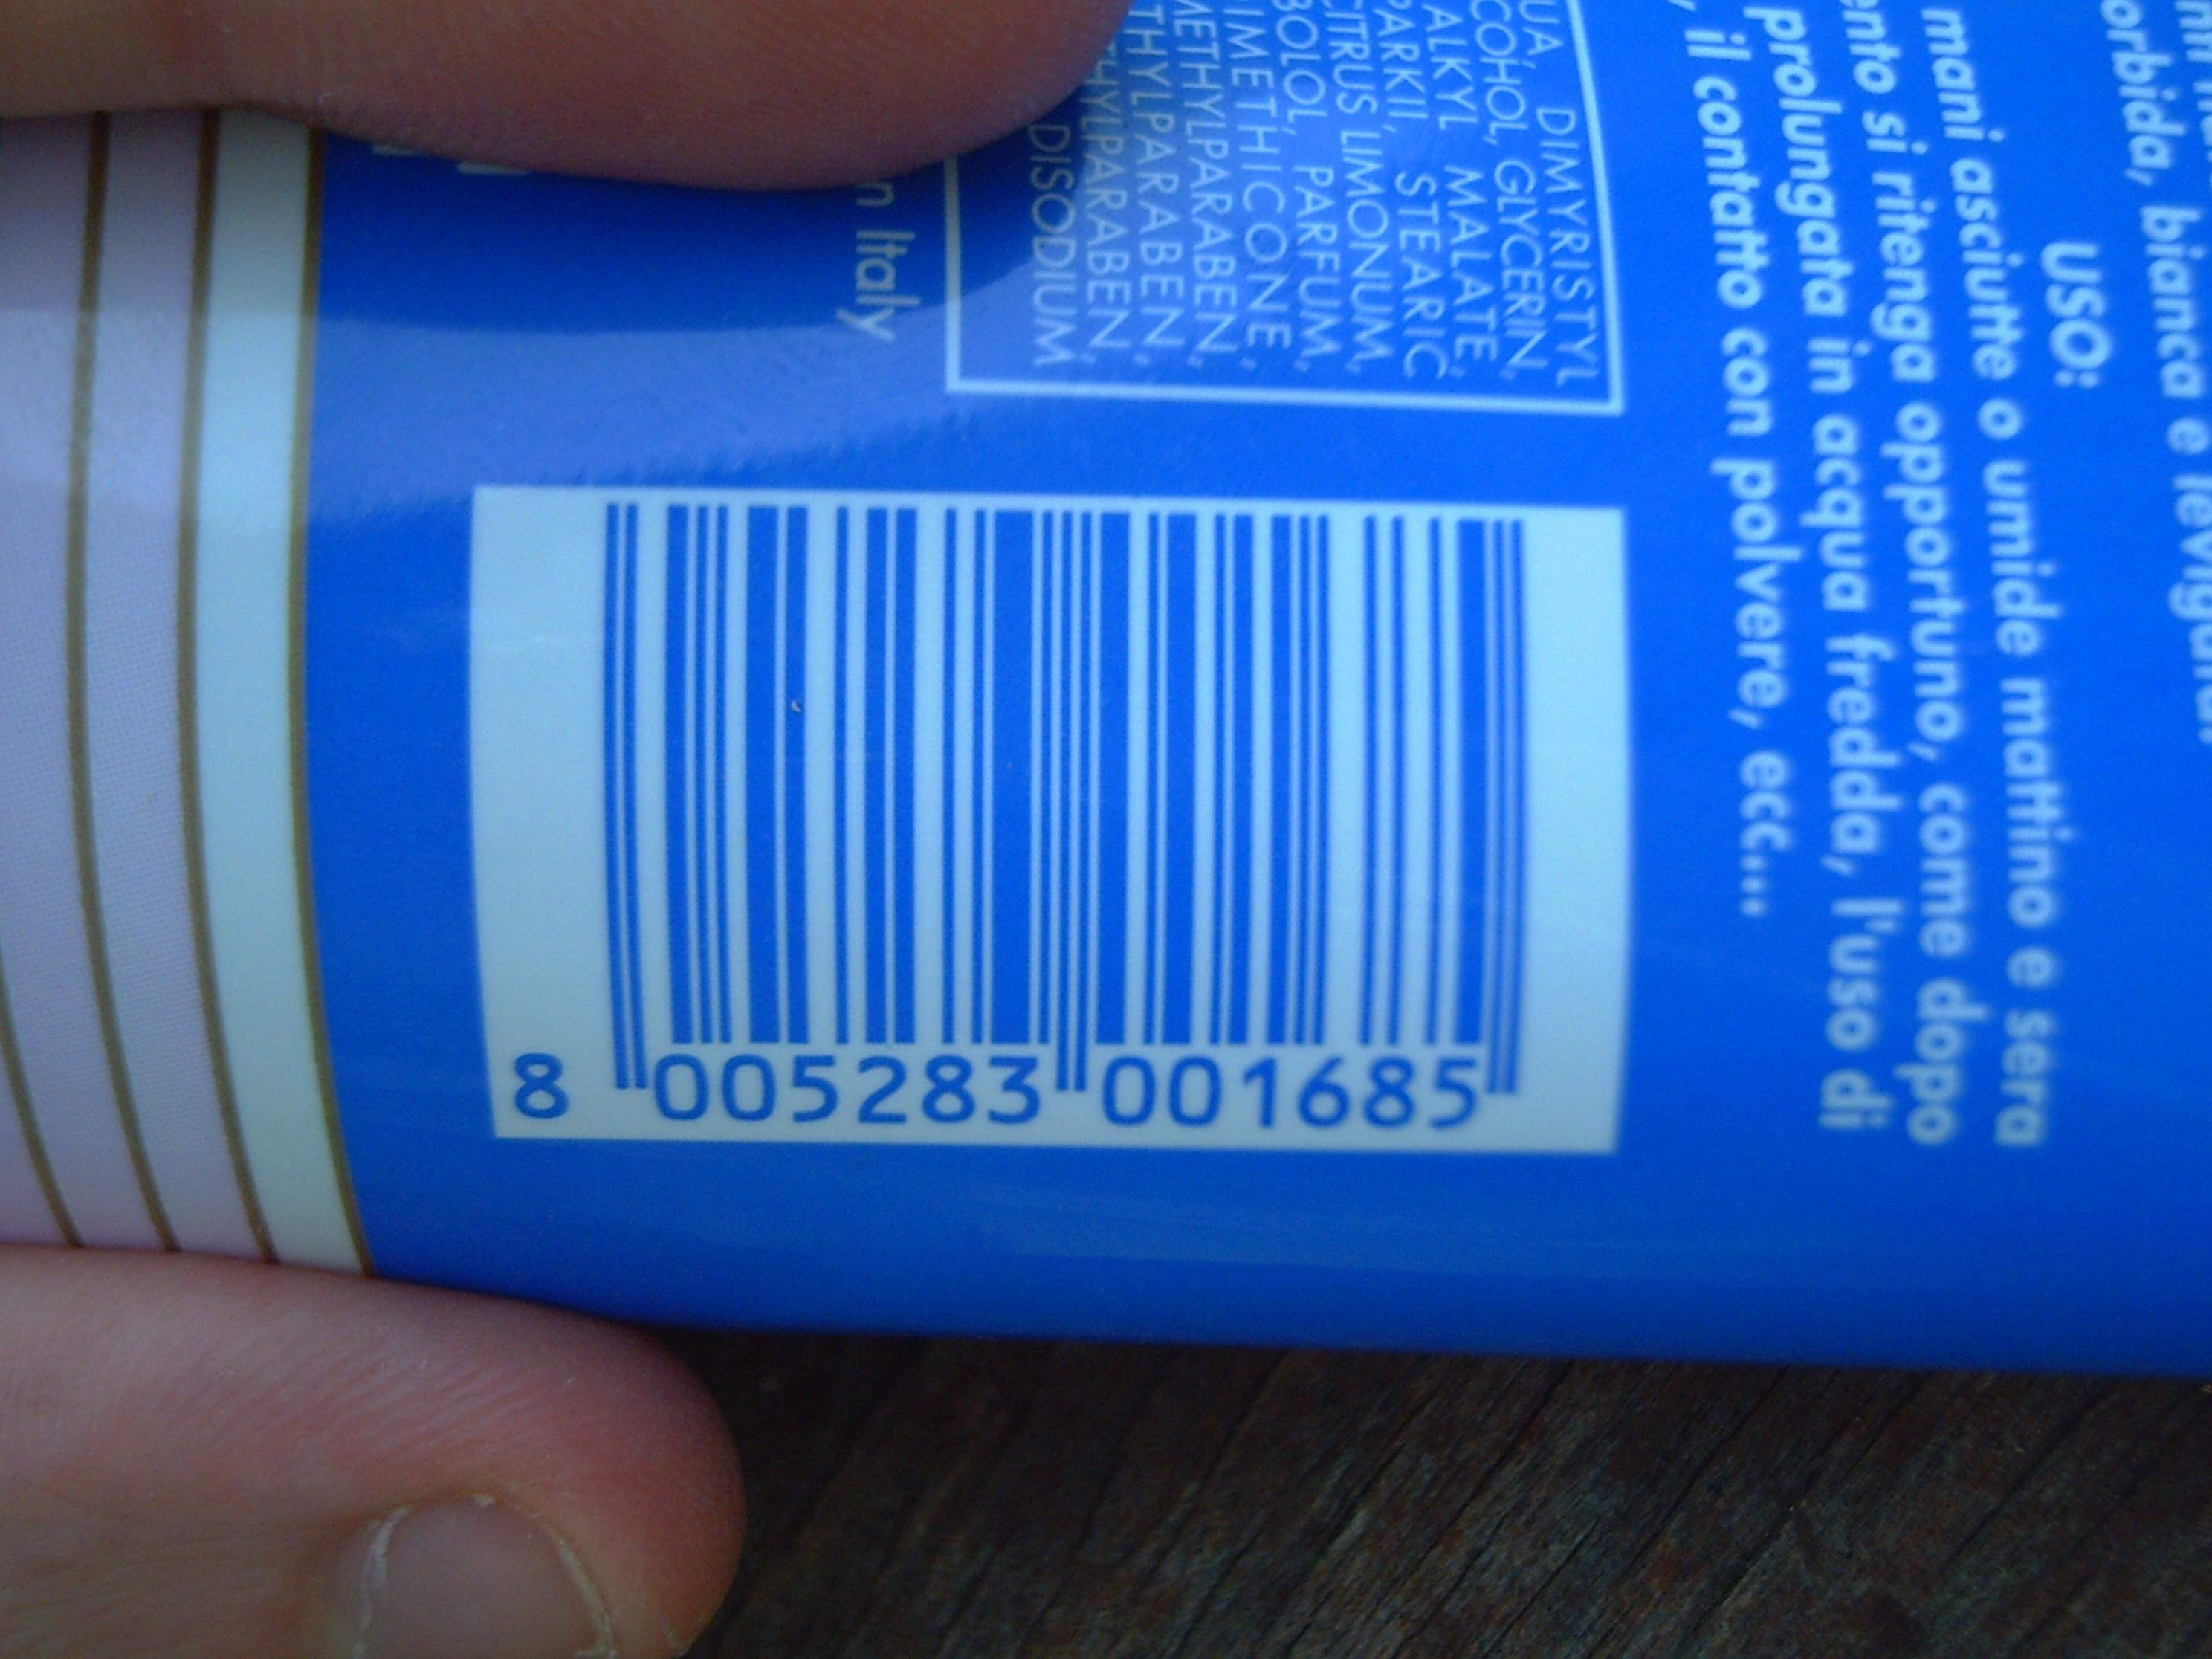barcode: (489, 484, 1616, 1145)
